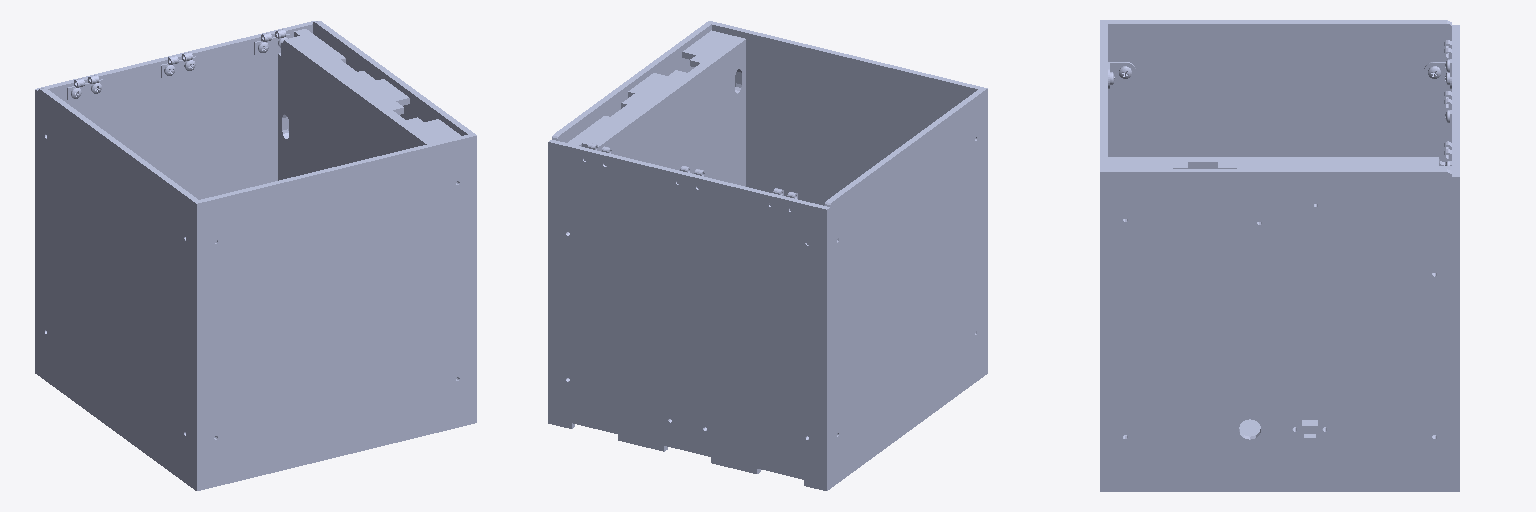
The robot description file, URDF, robot "Plain_Box_URDF":
<?xml version="1.0" encoding="utf-8"?>
<!-- This URDF was automatically created by SolidWorks to URDF Exporter! Originally created by [author] ([email redacted]) 
     Commit Version: 1.6.0-4-g7f85cfe  Build Version: 1.6.7995.38578
     For more information, please see http://wiki.ros.org/sw_urdf_exporter -->
<robot
  name="Plain_Box_URDF">
  <link
    name="base_link">
    <inertial>
      <origin
        xyz="0.0056233 -0.01191 0.076147"
        rpy="0 0 0" />
      <mass
        value="0.65846" />
      <inertia
        ixx="0.0016062"
        ixy="2.4498E-06"
        ixz="1.3433E-06"
        iyy="0.0015646"
        iyz="3.5399E-07"
        izz="0.0014585" />
    </inertial>
    <visual>
      <origin
        xyz="0 0 0"
        rpy="0 0 0" />
      <geometry>
        <mesh
          filename="package://Plain_Box_URDF/meshes/base_link.STL" />
      </geometry>
      <material
        name="">
        <color
          rgba="0.79608 0.82353 0.93725 1" />
      </material>
    </visual>
    <collision>
      <origin
        xyz="0 0 0"
        rpy="0 0 0" />
      <geometry>
        <mesh
          filename="package://Plain_Box_URDF/meshes/base_link.STL" />
      </geometry>
    </collision>
  </link>
  <link
    name="top_Link">
    <inertial>
      <origin
        xyz="0.0012643 0.097693 -0.041107"
        rpy="0 0 0" />
      <mass
        value="0.40215" />
      <inertia
        ixx="0.00028852"
        ixy="-1.0819E-06"
        ixz="-9.1772E-08"
        iyy="0.00057584"
        iyz="-1.1657E-05"
        izz="0.00071659" />
    </inertial>
    <visual>
      <origin
        xyz="0 0 0"
        rpy="0 0 0" />
      <geometry>
        <mesh
          filename="package://Plain_Box_URDF/meshes/top_Link.STL" />
      </geometry>
      <material
        name="">
        <color
          rgba="0.79608 0.82353 0.93725 1" />
      </material>
    </visual>
    <collision>
      <origin
        xyz="0 0 0"
        rpy="0 0 0" />
      <geometry>
        <mesh
          filename="package://Plain_Box_URDF/meshes/top_Link.STL" />
      </geometry>
    </collision>
  </link>
  <joint
    name="joint_1"
    type="revolute">
    <origin
      xyz="0 -0.0050165 0.071196"
      rpy="2.8878 0 0" />
    <parent
      link="base_link" />
    <child
      link="top_Link" />
    <axis
      xyz="0 0 1" />
    <limit
      lower="0"
      upper="2"
      effort="100"
      velocity="10" />
    <dynamics
      friction="0.5" />
  </joint>
</robot>

--- Facts derived from the render (not from the file) ---
Views: 3 orthographic renders of the robot side by side, from view 1: azimuth 30°, elevation 25°; view 2: azimuth 150°, elevation 25°; view 3: azimuth 270°, elevation 25°.
Model Plain_Box_URDF with 2 links and 1 joints (1 revolute), rooted at base_link, posed all joints at 0.
Links seen in each view (by area): view 1: base_link; view 2: base_link; view 3: base_link.
Boxes of the visible links, bbox=[...] form: base_link: bbox=[35, 21, 476, 490]; base_link: bbox=[548, 21, 987, 490]; base_link: bbox=[1100, 20, 1459, 491].
Bounding box of the posed robot: 0.1524 × 0.1524 × 0.1492 m (x, y, z).
1 mesh visuals loaded from 2 distinct referenced files (1 binary STL); not drawn: 1 (reference not matched to a file when rendering).